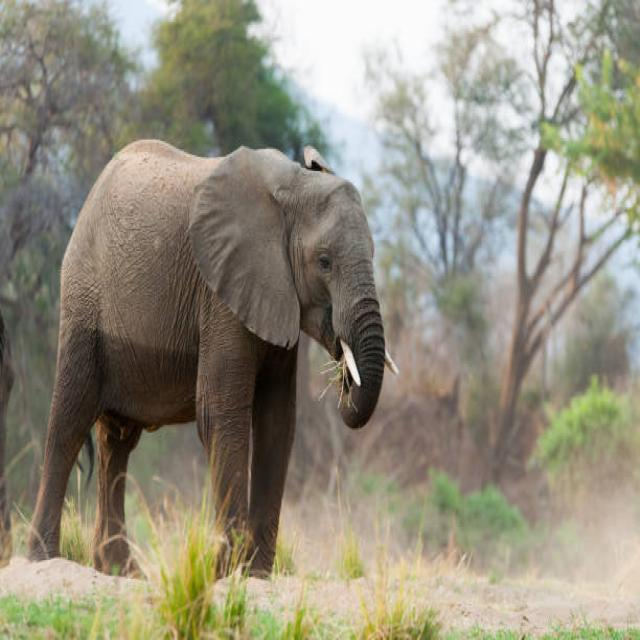Elephant: (30, 119, 389, 589)
